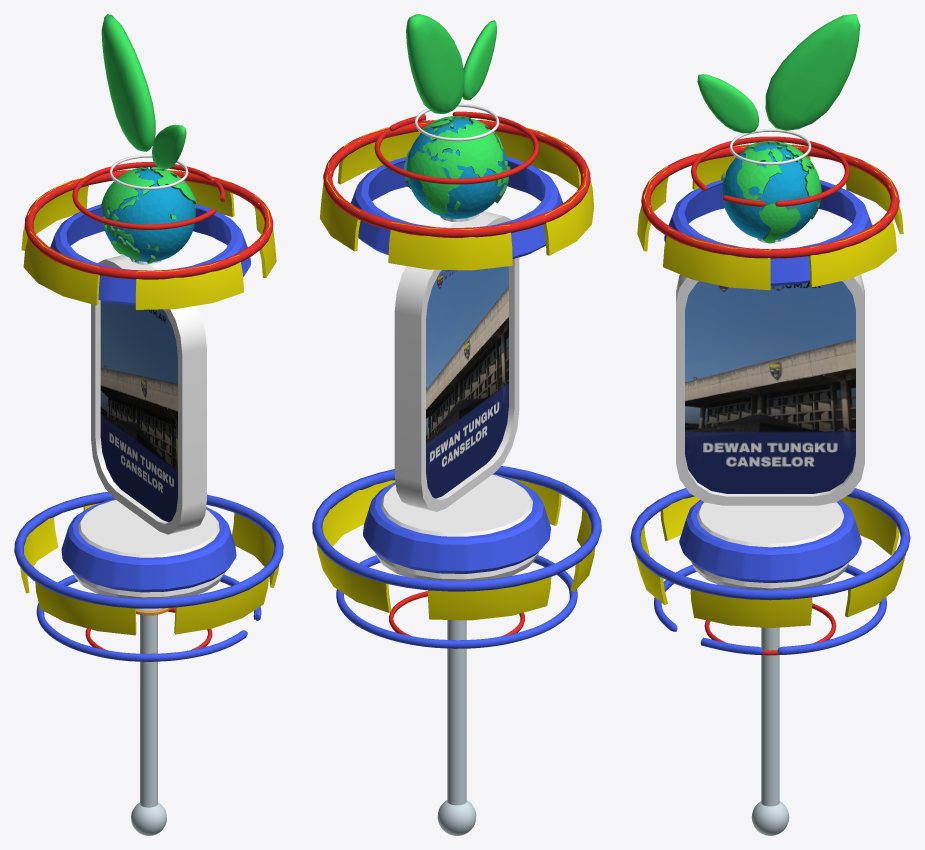
Rendered from dtc.glb.
The picture shows the model from 3 angles, left to right: view 1: azimuth 30°, elevation 25°; view 2: azimuth 150°, elevation 25°; view 3: azimuth 270°, elevation 25°; orthographic projection. The views are drawn at different scales.
Parts seen in each view (by area): view 1: pCube3, polySurface2, pasted__pSphere8, pasted__pSphere6, pasted__pCylinder9, Sphere, pasted__pCylinder10, pCube5, pasted__polySurface27, pasted__polySurface28, pasted__pCone1, pasted__polySurface30 (+3 smaller); view 2: pCube3, polySurface2, pasted__pSphere8, pasted__pSphere6, pasted__pCylinder9, Sphere, pasted__pCylinder10, pasted__polySurface27, pCube5, pasted__polySurface28, pasted__polySurface30, pasted__pCone1 (+4 smaller); view 3: pCube3, pasted__pSphere8, pCube5, pasted__pSphere6, Sphere, pasted__pCylinder9, pasted__pCylinder10, polySurface2, pasted__polySurface27, pasted__polySurface28, pasted__polySurface30, pasted__pCone1 (+4 smaller).
Part boxes in pixels (x1,y1,x2,y2): pCube3: (100, 300, 177, 522); polySurface2: (91, 255, 206, 534); pasted__pSphere8: (21, 169, 276, 309); pasted__pSphere6: (20, 503, 279, 635); pasted__pCylinder9: (61, 499, 236, 592); Sphere: (100, 166, 196, 264); pasted__pCylinder10: (71, 500, 225, 598); pCube5: (101, 14, 186, 169); pasted__polySurface27: (14, 492, 283, 608); pasted__polySurface28: (24, 170, 273, 279); pasted__pCone1: (131, 608, 166, 835); pasted__polySurface30: (50, 204, 250, 305); pCube3: (426, 266, 508, 498); polySurface2: (394, 211, 519, 511); pasted__pSphere8: (320, 119, 593, 270); pasted__pSphere6: (317, 477, 595, 620); pasted__pCylinder9: (363, 473, 550, 573); Sphere: (404, 116, 510, 221); pasted__pCylinder10: (375, 474, 539, 580); pasted__polySurface27: (312, 466, 601, 591); pCube5: (406, 14, 496, 113); pasted__polySurface28: (323, 120, 590, 237); pasted__polySurface30: (350, 156, 562, 258); pasted__pCone1: (437, 620, 476, 835); pCube3: (685, 281, 855, 493); pasted__pSphere8: (637, 144, 903, 290); pCube5: (697, 14, 860, 133); pasted__pSphere6: (635, 496, 905, 627); Sphere: (721, 141, 821, 243); pasted__pCylinder9: (679, 500, 861, 582); pasted__pCylinder10: (691, 502, 849, 589); polySurface2: (676, 248, 864, 505); pasted__polySurface27: (630, 488, 910, 600); pasted__polySurface28: (641, 144, 899, 258); pasted__polySurface30: (664, 180, 872, 285); pasted__pCone1: (751, 627, 789, 835).
Bounding box in the file's own units: 0.0149 × 0.0481 × 0.0149.
10 materials, 1 textured.
